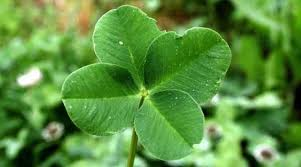4-clover: (63, 6, 232, 158)
